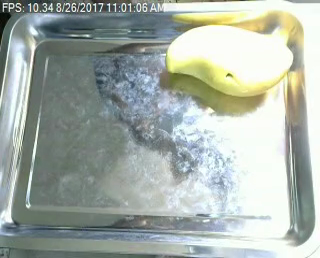Mango: (155, 17, 294, 98)
